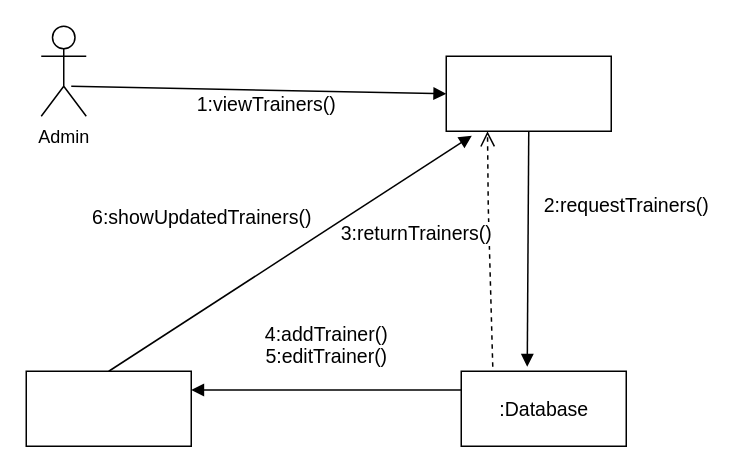
This 735x473 diagram has some shape labels left out. Here are the shapes that lost their labels. From the top down, the centre of each, then its label:
the point at 528,93: :Dashboard
the point at 108,408: :Trainers
